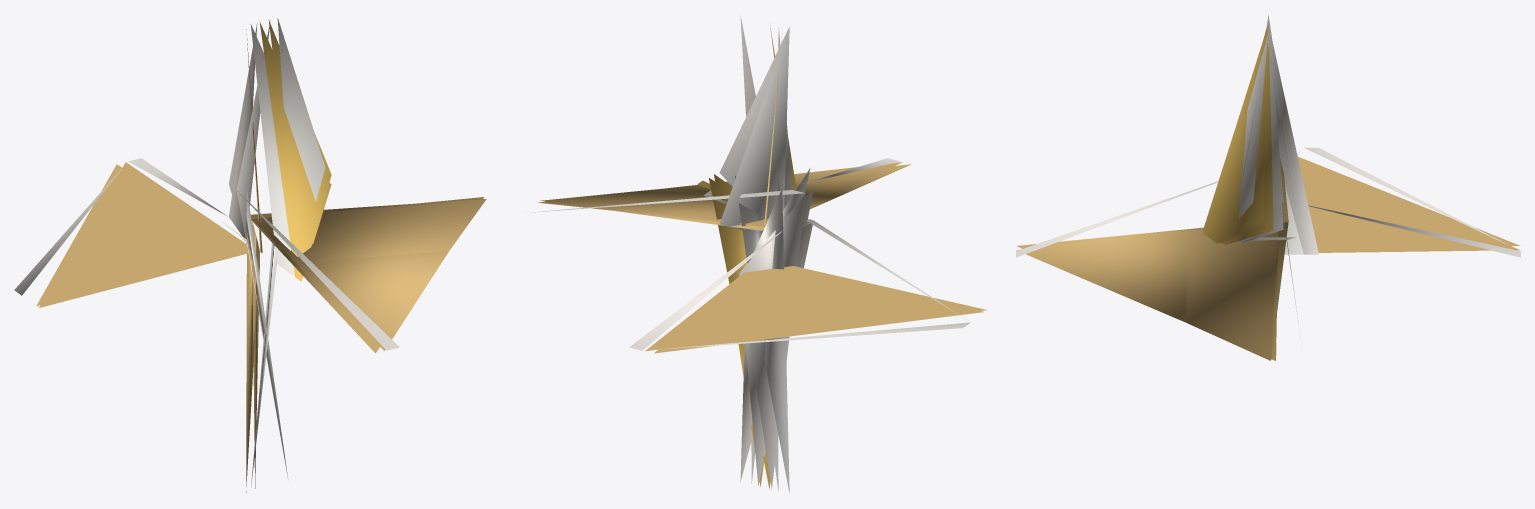
Rendered from npc_chicken_idle.glb.
The picture shows the model from 3 angles, left to right: view 1: azimuth 30°, elevation 25°; view 2: azimuth 150°, elevation 25°; view 3: azimuth 270°, elevation 25°; orthographic projection. The views are drawn at different scales.
Parts seen in each view (by area): view 1: npc_chicken_idle; view 2: npc_chicken_idle; view 3: npc_chicken_idle.
Part boxes in pixels (left/top/right/bottom): npc_chicken_idle: left=14, top=18, right=486, bottom=492; npc_chicken_idle: left=526, top=14, right=986, bottom=493; npc_chicken_idle: left=1016, top=14, right=1520, bottom=360.
Bounding box in the file's own units: 2 × 2 × 2.
